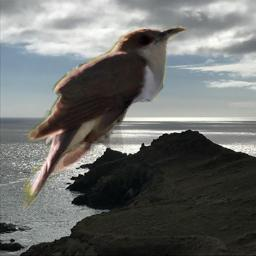Cuckoo: (23, 24, 186, 218)
